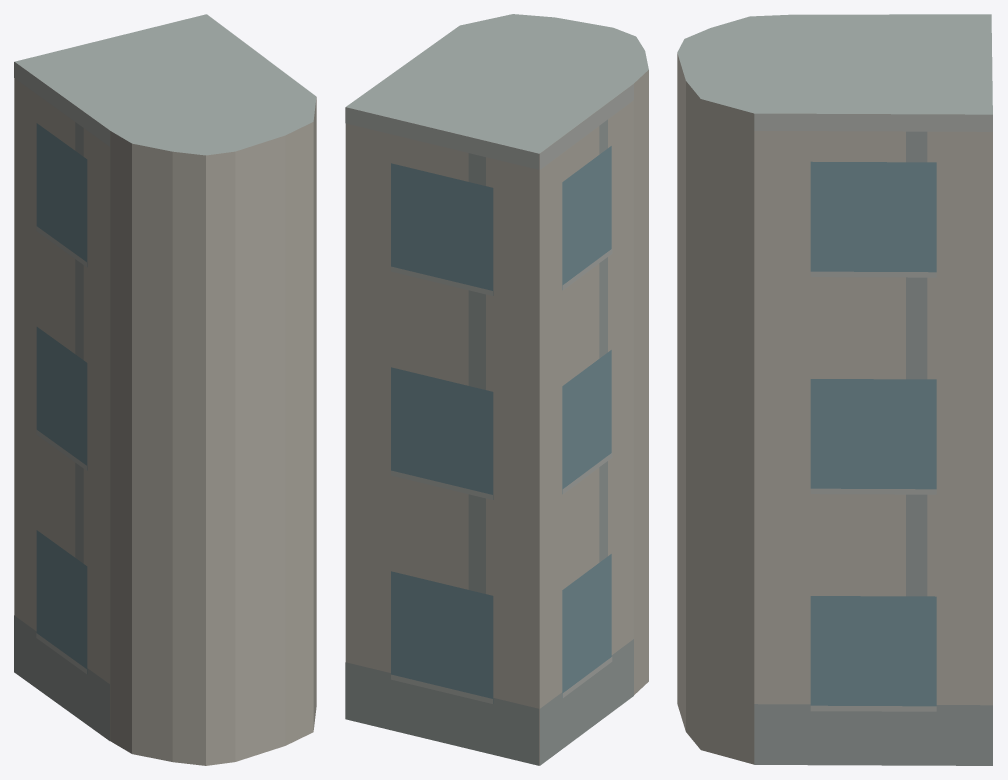
File: survey-upis-32647965.glb
3 views of the same model, side by side, from view 1: azimuth 30°, elevation 25°; view 2: azimuth 150°, elevation 25°; view 3: azimuth 270°, elevation 25° (orthographic). The views are drawn at different scales.
Parts seen in each view (by area): view 1: survey-upis-32647965.tmp; view 2: survey-upis-32647965.tmp; view 3: survey-upis-32647965.tmp.
Boxes of the visible parts, <box> form: survey-upis-32647965.tmp: <box>14,14,316,765</box>; survey-upis-32647965.tmp: <box>345,14,648,765</box>; survey-upis-32647965.tmp: <box>677,14,992,765</box>.
Bounding box in the file's own units: 3.04 × 9.15 × 4.03.
